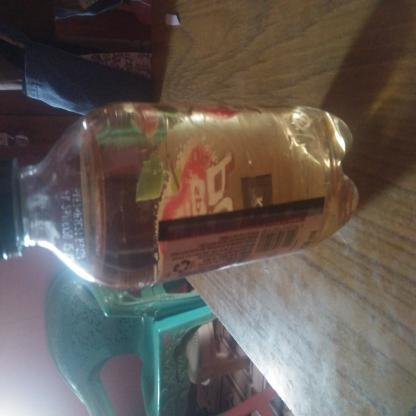bottle: (98, 2, 238, 416)
